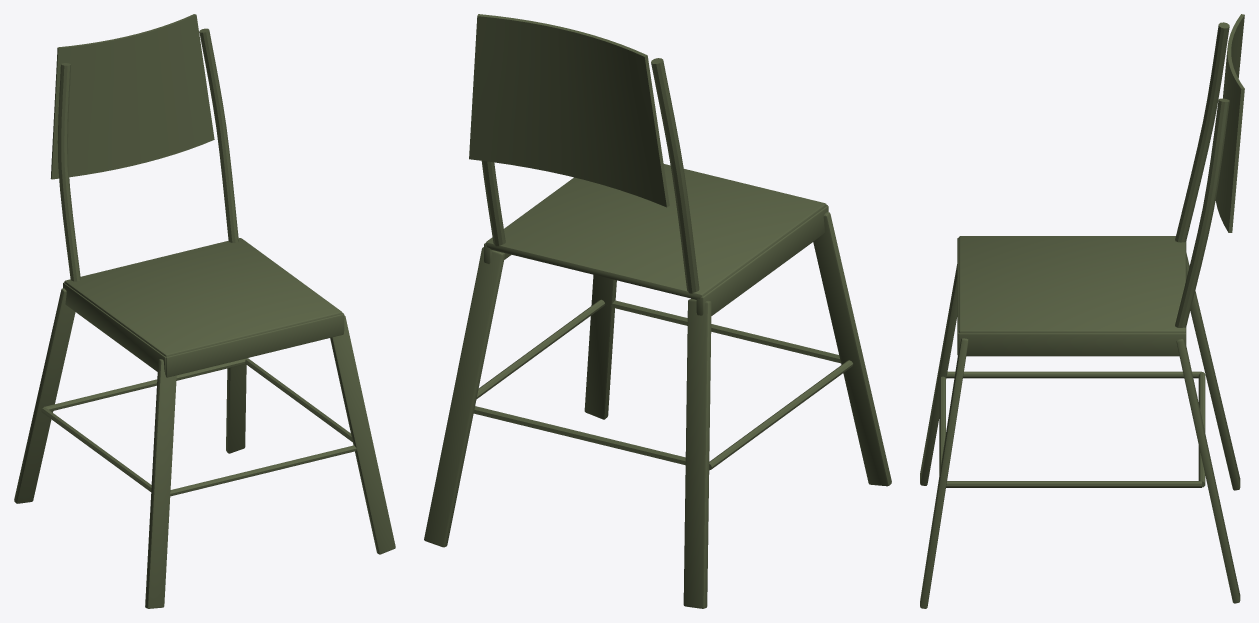
File: metal_olive.glb
The picture shows the model from 3 angles, left to right: view 1: azimuth 30°, elevation 25°; view 2: azimuth 150°, elevation 25°; view 3: azimuth 270°, elevation 25°; orthographic projection. The views are drawn at different scales.
Parts seen in each view (by area): view 1: metal_olive; view 2: metal_olive; view 3: metal_olive.
Part boxes in pixels (x1,y1,x2,y2): metal_olive: [14, 14, 395, 608]; metal_olive: [424, 14, 891, 608]; metal_olive: [920, 14, 1244, 608].
Size of the model in its own units: 0.5039 by 0.8607 by 0.5136.
